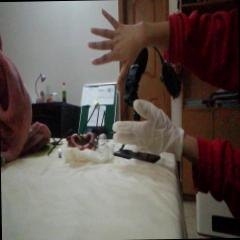gloved: (112, 98, 184, 154)
not-gloved: (88, 8, 156, 92)
